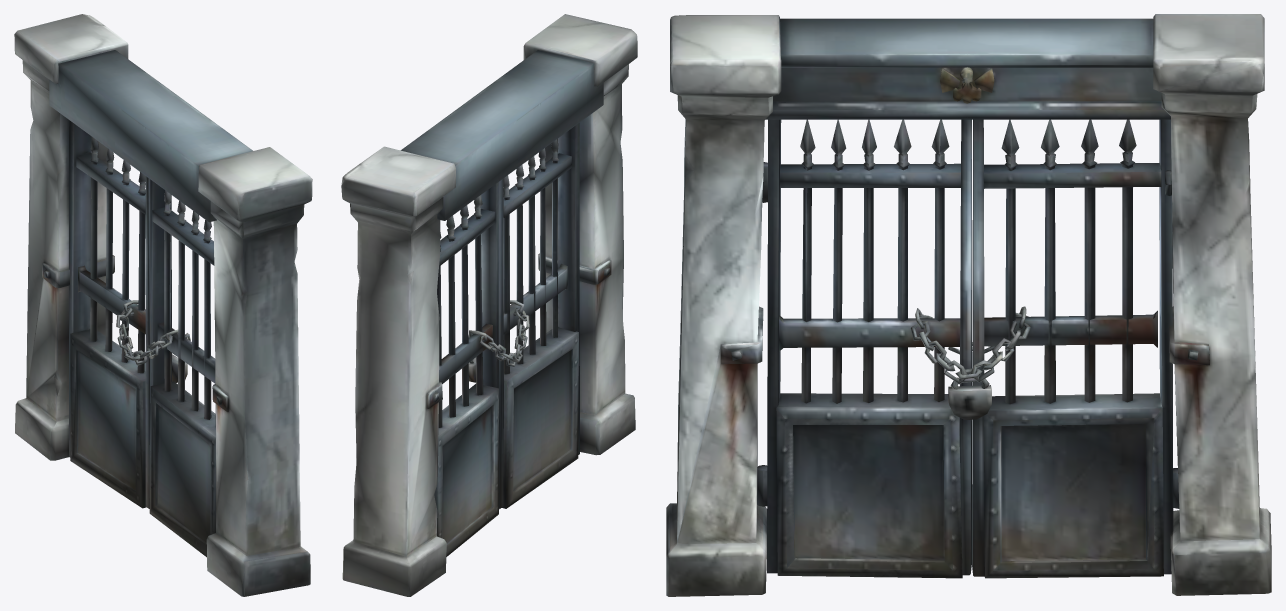
File: obj_iron_gate.glb
3 views of the same model, side by side, from view 1: azimuth 30°, elevation 25°; view 2: azimuth 150°, elevation 25°; view 3: azimuth 270°, elevation 25° (orthographic). The views are drawn at different scales.
Parts seen in each view (by area): view 1: model; view 2: model; view 3: model.
Boxes of the visible parts, x1,y1,x2,y2 form: model: (14, 14, 312, 596); model: (341, 14, 637, 596); model: (666, 14, 1271, 596).
Size of the model in its own units: 0.1936 by 1 by 1.02.
Materials: 1 (1 with a texture image).
